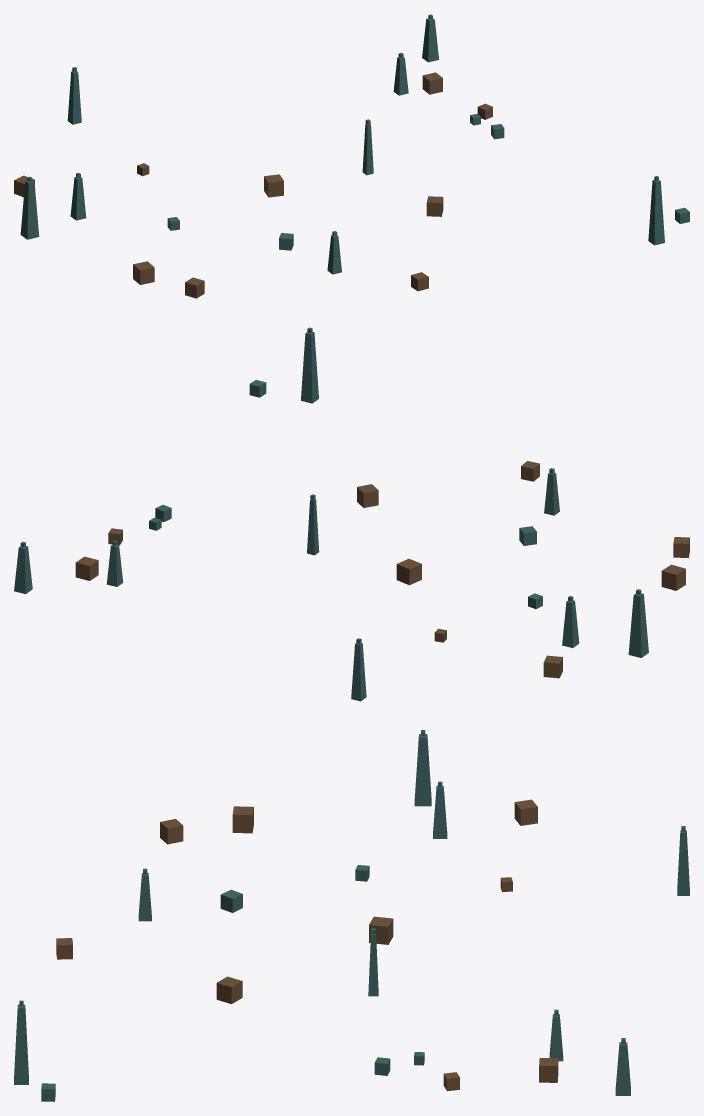
Rendered from biome_vault.glb.
3 views of the same model, one above another, from view 1: azimuth 30°, elevation 25°; view 2: azimuth 150°, elevation 25°; view 3: azimuth 270°, elevation 25° (orthographic). The views are drawn at different scales.
Visible parts, largest first — view 1: vault_pylon_4, vault_pylon_3, vault_pylon_2, vault_pylon_1, vault_pylon_5, vault_pylon_7, vault_pylon_6, vault_pylon_0, vault_crate_2; view 2: vault_pylon_4, vault_pylon_3, vault_pylon_2, vault_pylon_1, vault_pylon_5, vault_pylon_7, vault_pylon_6, vault_crate_6; view 3: vault_pylon_4, vault_pylon_3, vault_pylon_2, vault_pylon_1, vault_pylon_5, vault_crate_5, vault_crate_2, vault_crate_6, vault_pylon_7, vault_pylon_0.
Part boxes in pixels (<box>): vault_pylon_4: <box>20,176,39,239</box>; vault_pylon_3: <box>648,176,664,245</box>; vault_pylon_2: <box>67,67,81,124</box>; vault_pylon_1: <box>422,14,438,62</box>; vault_pylon_5: <box>70,173,86,220</box>; vault_pylon_7: <box>362,119,373,175</box>; vault_pylon_6: <box>393,52,408,95</box>; vault_pylon_0: <box>327,231,341,274</box>; vault_crate_2: <box>133,261,154,284</box>; vault_pylon_4: <box>628,589,648,657</box>; vault_pylon_3: <box>301,327,318,403</box>; vault_pylon_2: <box>351,638,366,701</box>; vault_pylon_1: <box>14,541,32,594</box>; vault_pylon_5: <box>562,596,579,647</box>; vault_pylon_7: <box>307,494,319,555</box>; vault_pylon_6: <box>106,540,123,586</box>; vault_crate_6: <box>396,558,421,585</box>; vault_pylon_4: <box>414,730,431,806</box>; vault_pylon_3: <box>14,1000,28,1084</box>; vault_pylon_2: <box>677,826,689,895</box>; vault_pylon_1: <box>615,1038,630,1095</box>; vault_pylon_5: <box>433,781,447,838</box>; vault_crate_5: <box>216,976,242,1004</box>; vault_crate_2: <box>232,806,253,833</box>; vault_crate_6: <box>369,916,393,944</box>; vault_pylon_7: <box>368,928,378,996</box>; vault_pylon_0: <box>138,868,151,921</box>.
Size of the model in its own units: 58.69 by 7.69 by 54.5.
